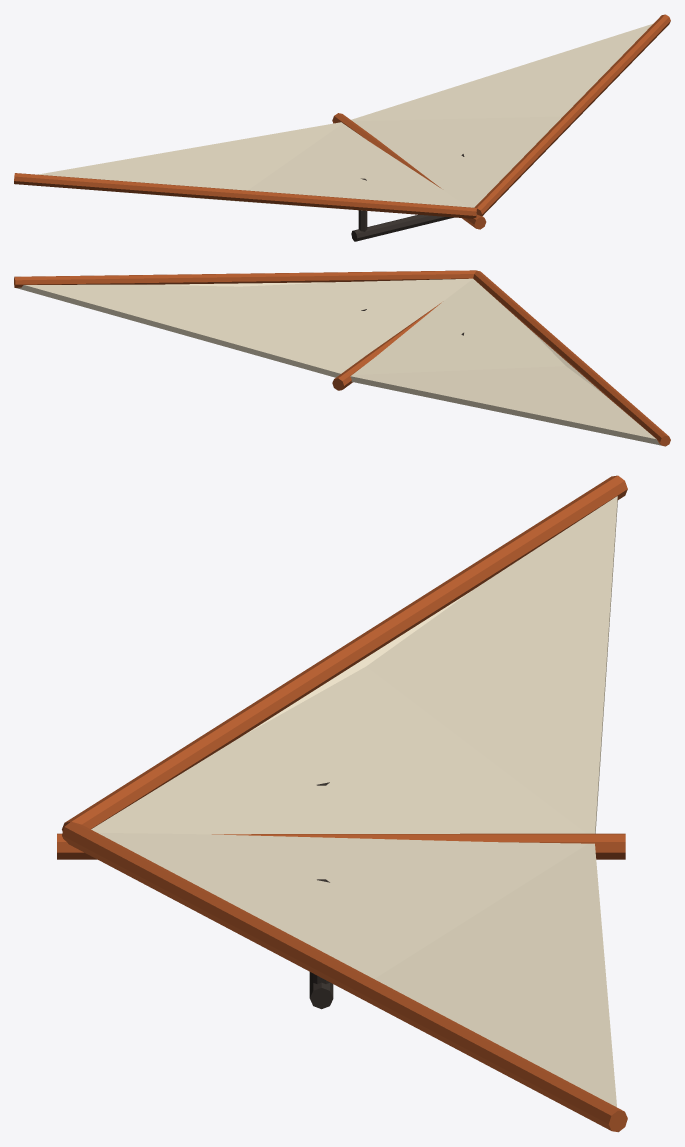
File: wing.glb
3 views of the same model, one above another, from view 1: azimuth 30°, elevation 25°; view 2: azimuth 150°, elevation 25°; view 3: azimuth 270°, elevation 25° (orthographic). The views are drawn at different scales.
Parts seen in each view (by area): view 1: wing, Cylinder.001, Cylinder.002, Cylinder.003, Cylinder; view 2: wing, Cylinder.002, Cylinder.001, Cylinder; view 3: wing, Cylinder.002, Cylinder.001, Cylinder.
Part boxes in pixels (x1,y1,x2,y2): wing: (38,24,652,211); Cylinder.001: (14,173,476,218); Cylinder.002: (474,14,670,216); Cylinder.003: (351,214,454,241); Cylinder: (332,113,486,229); wing: (14,278,665,446); Cylinder.002: (14,270,476,287); Cylinder.001: (473,270,670,446); Cylinder: (332,302,441,390); wing: (91,496,618,1131); Cylinder.002: (62,821,627,1131); Cylinder.001: (62,475,627,831); Cylinder: (57,833,625,859).
Bounding box in the file's own units: 3.84 × 0.44 × 1.44.
